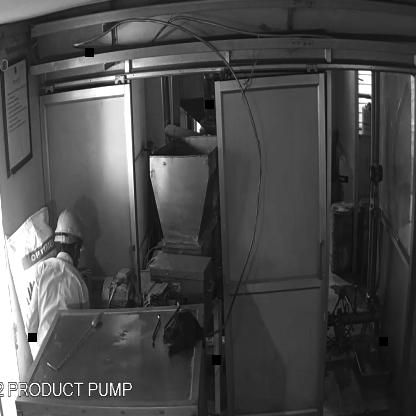helmet: (47, 196, 93, 268)
